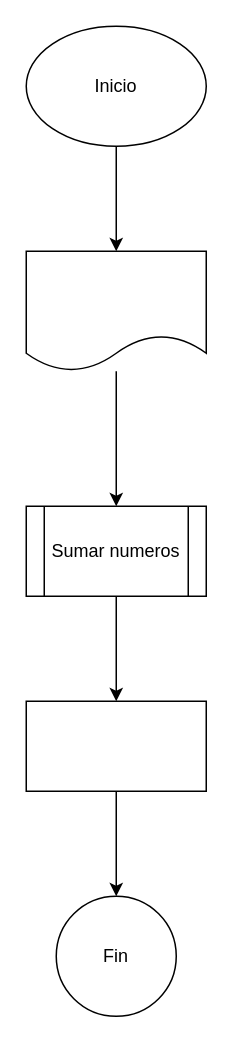
This 233x1043 diagram has some shape labels left out. Each missing label, with the centre of its shape:
"Entrada de dos numeros" goes at (115,310).
"Mostrar resultado" goes at (115,745).
